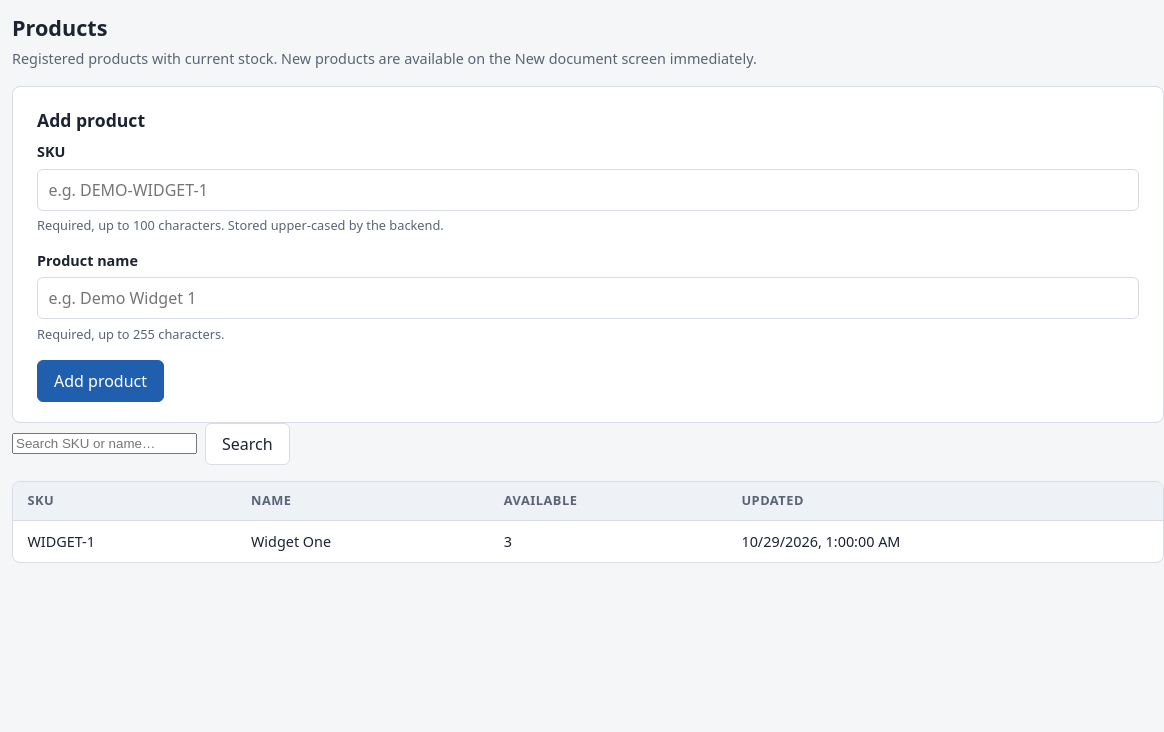
business screens › lists products with search and shows an empty state
The width and height of the screenshot is (1164, 732).
Expected: the text "WIDGET-1" is shown, [13, 521, 237, 562]
Expected: the text "Widget One" is shown, [237, 521, 489, 562]
Type "NONE" into the search field named "Search by SKU or name" at (104, 444), box [12, 433, 197, 454]
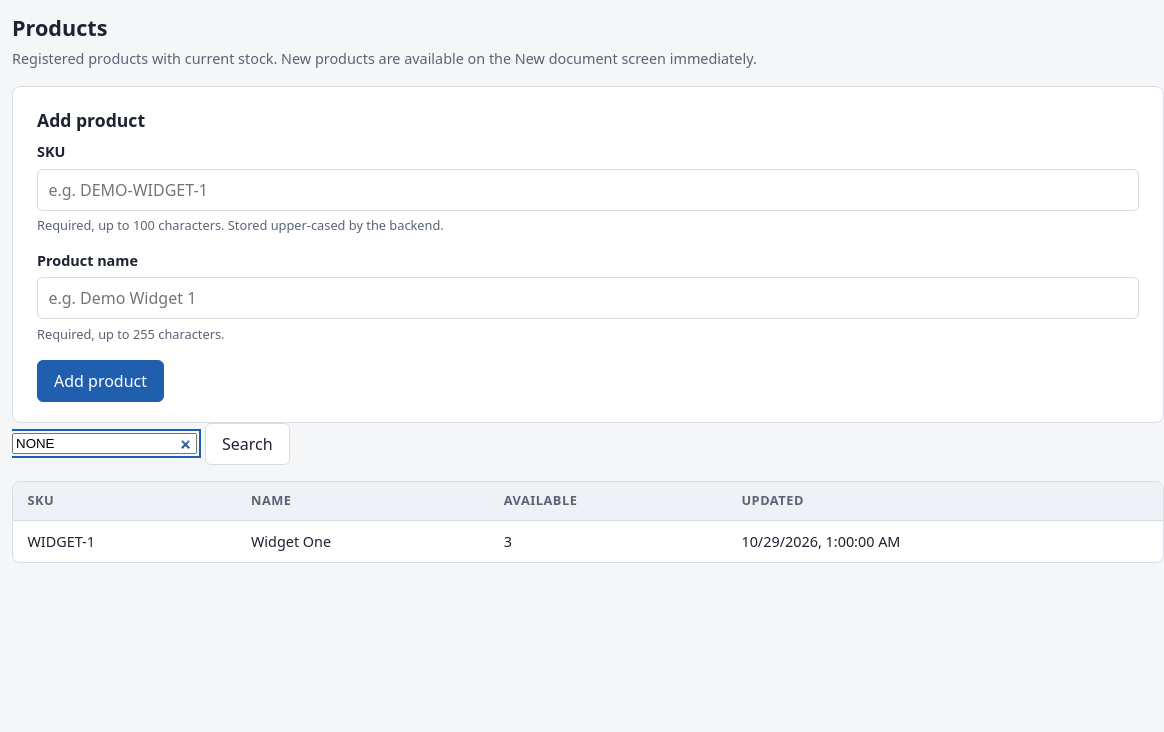
Click the button "Search" at (247, 444), box [205, 423, 290, 465]
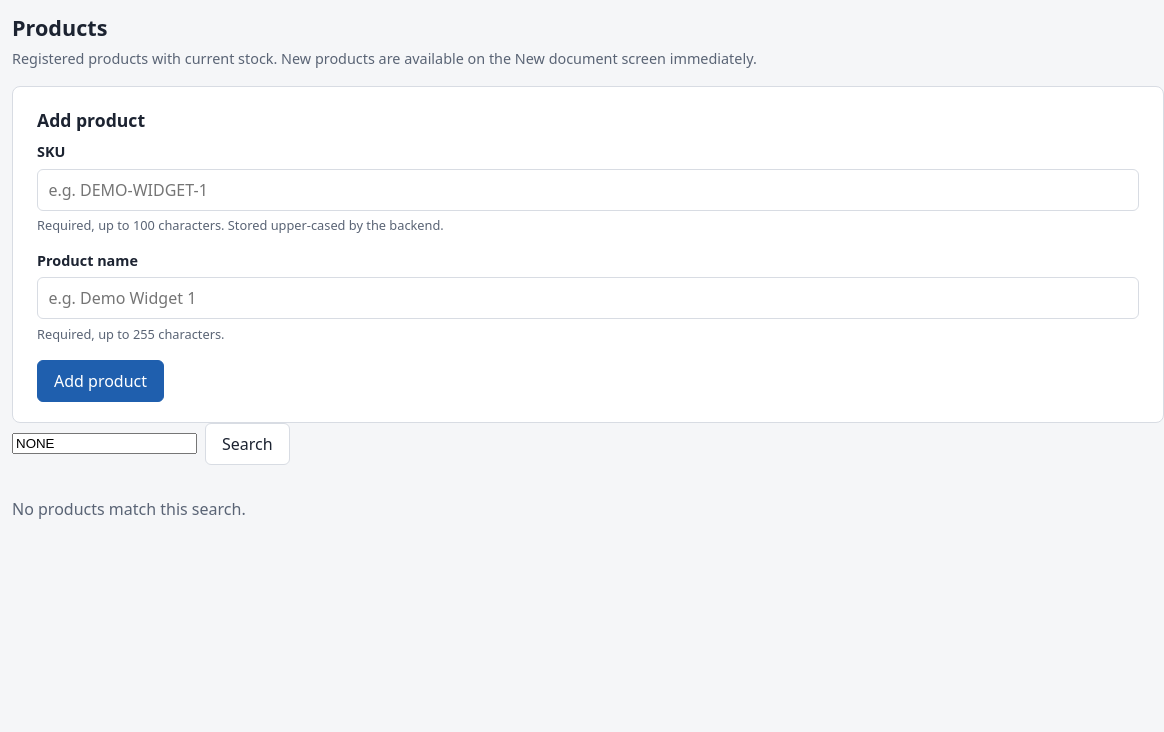
Expected: the text "No products match this search." is shown, [12, 498, 246, 520]
